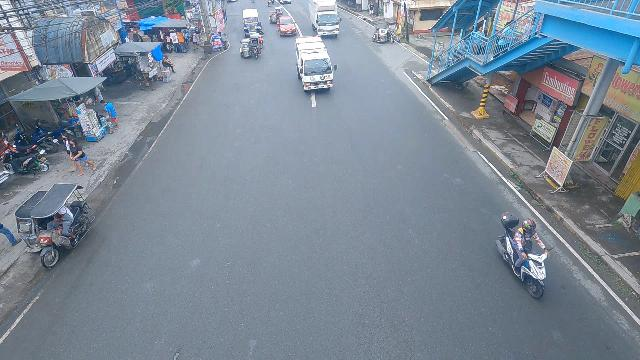car: (277, 14, 297, 35)
jeepney: (242, 8, 263, 36)
motorcycle: (492, 210, 552, 300), (256, 26, 264, 50), (267, 0, 272, 6)
truck: (309, 0, 342, 36)
van: (296, 35, 337, 90)
